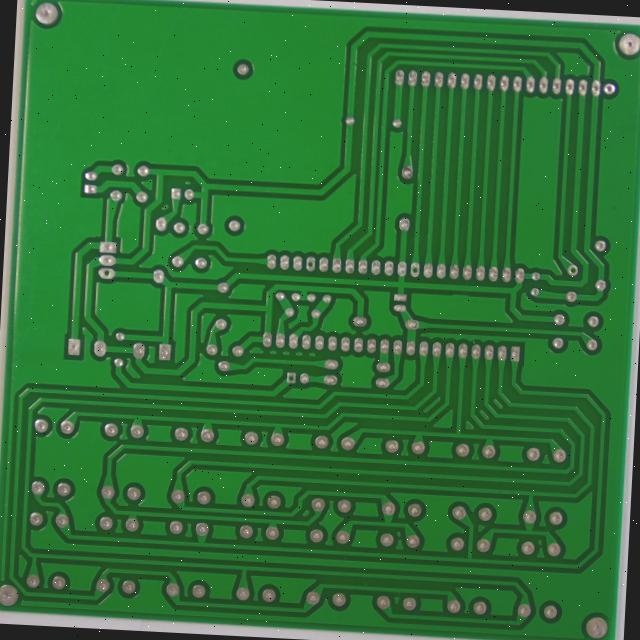missing_hole: (450, 292, 468, 312), (311, 412, 329, 432), (107, 298, 125, 315), (335, 286, 350, 305), (626, 292, 639, 311)
